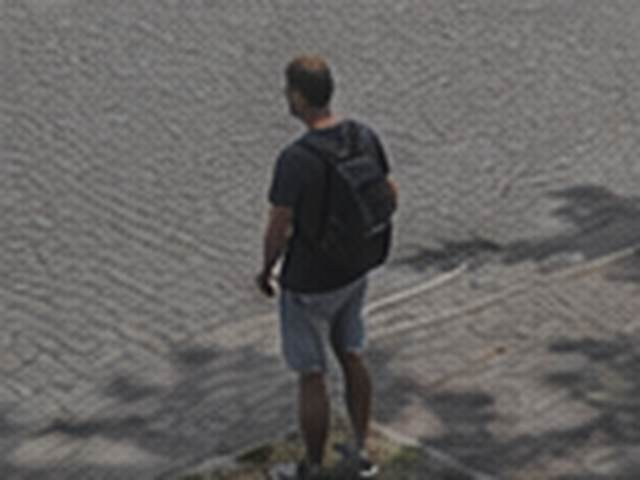suv: (256, 55, 396, 479)
